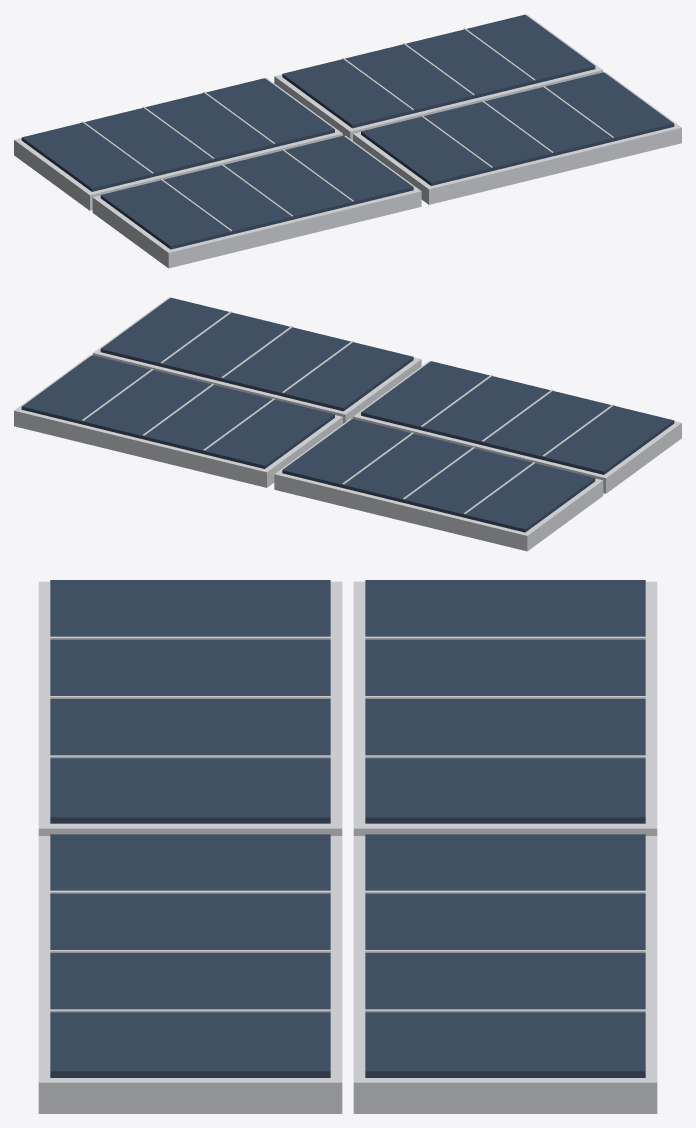
The model's file is rooftop-pv.glb.
3 renders of one model, top to bottom at view 1: azimuth 30°, elevation 25°; view 2: azimuth 150°, elevation 25°; view 3: azimuth 270°, elevation 25°, orthographic. The views are drawn at different scales.
Visible parts, largest first — view 1: rooftop-pv; view 2: rooftop-pv; view 3: rooftop-pv.
Boxes of the visible parts, x1,y1,x2,y2 form: rooftop-pv: (14, 14, 681, 268); rooftop-pv: (14, 297, 681, 551); rooftop-pv: (38, 580, 657, 1113).
Bounding box in the file's own units: 4.14 × 0.153 × 2.16.
